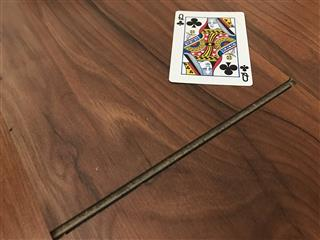QueenOfClubs: (167, 9, 253, 87)
